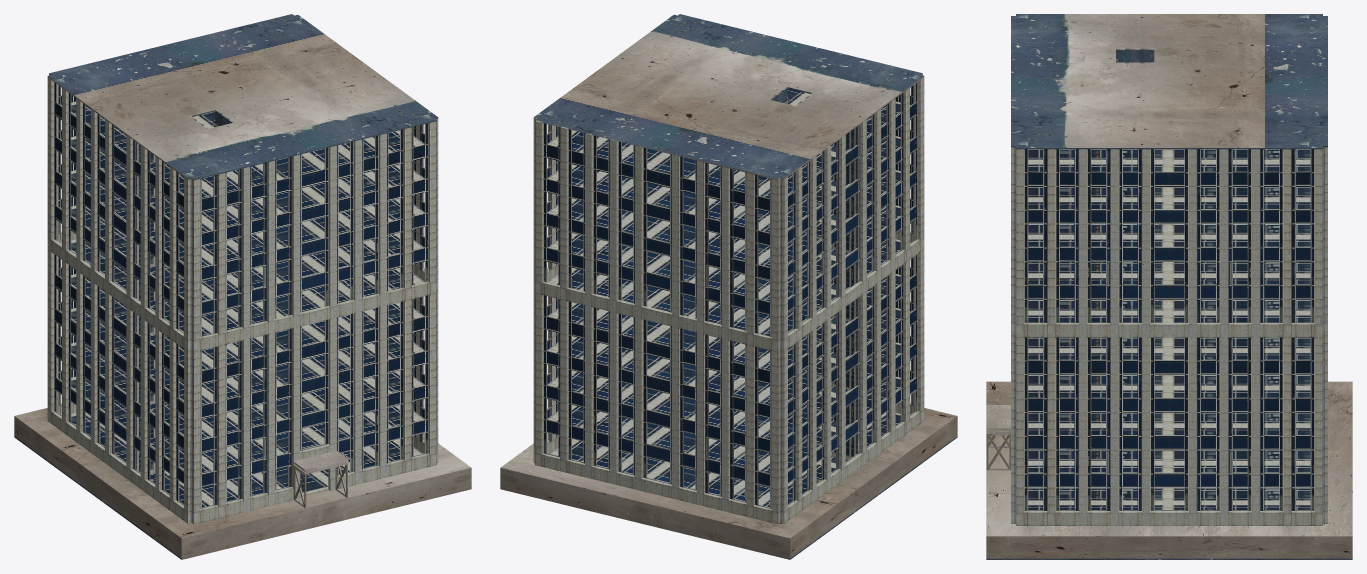
Rendered from BagSS02base_500.fbx.
The picture shows the model from 3 angles, left to right: view 1: azimuth 30°, elevation 25°; view 2: azimuth 150°, elevation 25°; view 3: azimuth 270°, elevation 25°; orthographic projection. The views are drawn at different scales.
Parts seen in each view (by area): view 1: baseMain500, baseA500, baseFloor500, baseBase500, basewalls500; view 2: baseMain500, baseA500, baseFloor500, baseBase500, basewalls500; view 3: baseMain500, baseA500, baseFloor500, baseBase500.
Part boxes in pixels (box(x1,y1,x2,y2)): baseMain500: box(47, 75, 438, 524); baseA500: box(47, 14, 438, 507); baseFloor500: box(61, 101, 424, 507); baseBase500: box(14, 408, 471, 559); basewalls500: box(136, 142, 155, 474); baseMain500: box(533, 75, 924, 524); baseA500: box(533, 14, 924, 180); baseFloor500: box(547, 88, 910, 507); baseBase500: box(500, 408, 957, 559); basewalls500: box(831, 126, 857, 460); baseMain500: box(1011, 147, 1327, 525); baseA500: box(986, 14, 1327, 470); baseFloor500: box(1028, 149, 1310, 509); baseBase500: box(986, 381, 1352, 559).
Bounding box in the file's own units: 55.78 × 67.44 × 55.78.
